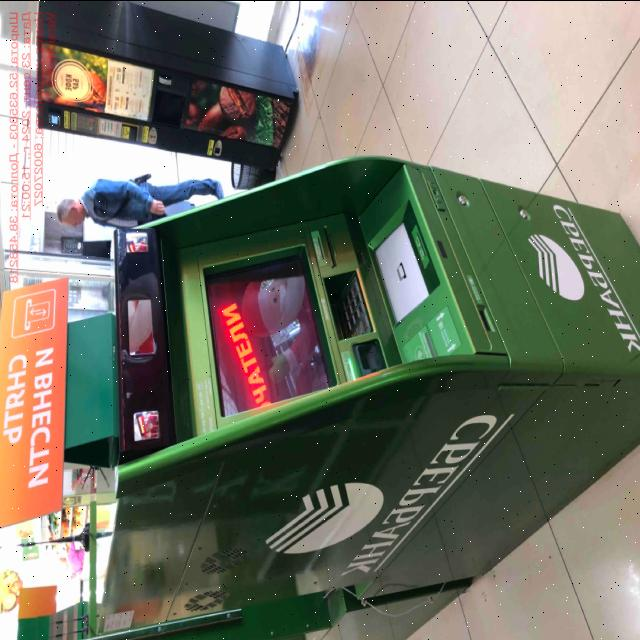bank: (12, 160, 640, 613)
